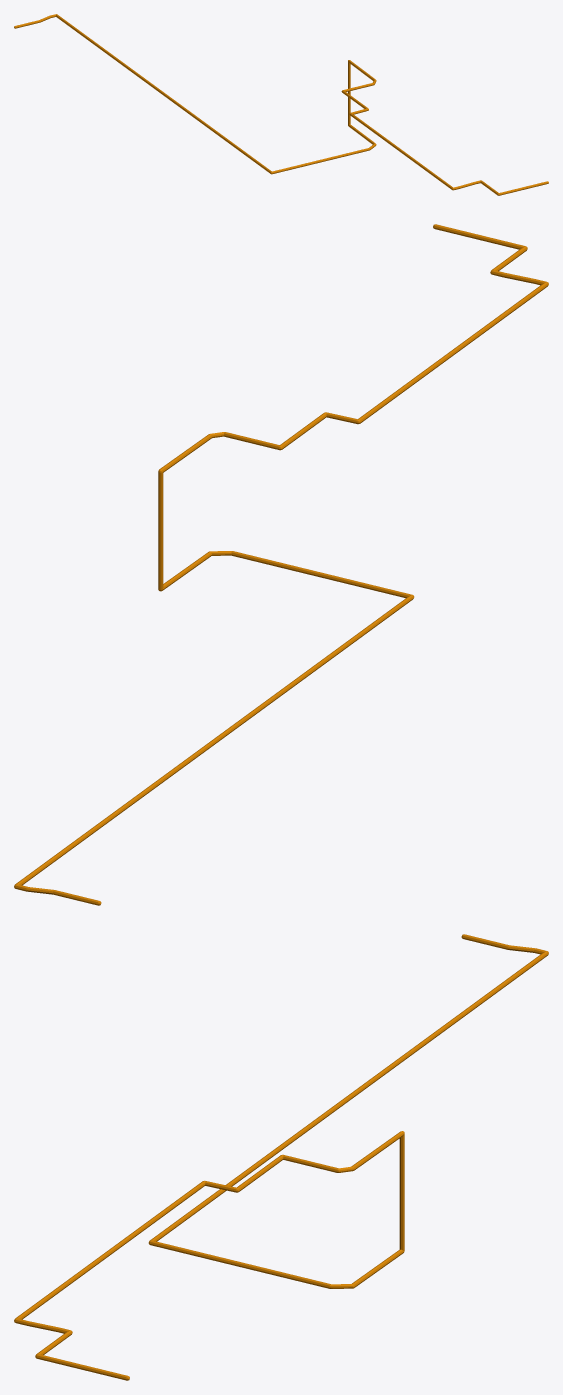
3 renders of one model, top to bottom at view 1: azimuth 30°, elevation 25°; view 2: azimuth 150°, elevation 25°; view 3: azimuth 330°, elevation 25°, orthographic. The views are drawn at different scales.
Size of the model in its own units: 1447 by 520 by 5115.
